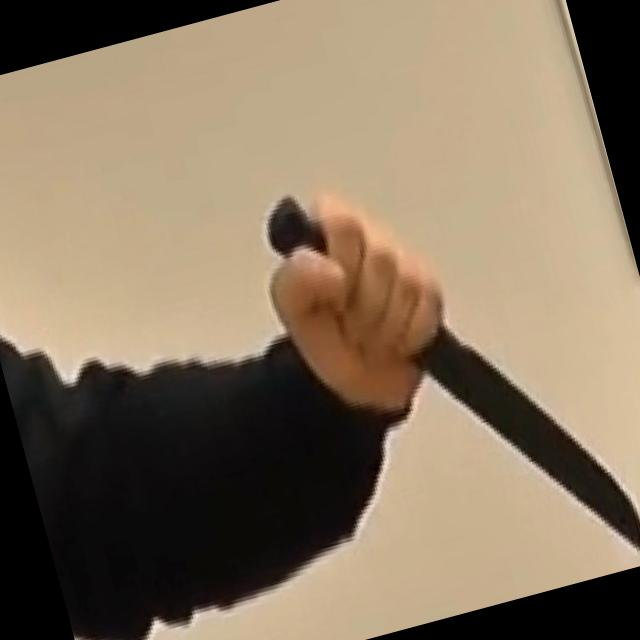suspicion: (0, 108, 640, 640), (414, 303, 640, 597), (254, 185, 322, 258)
